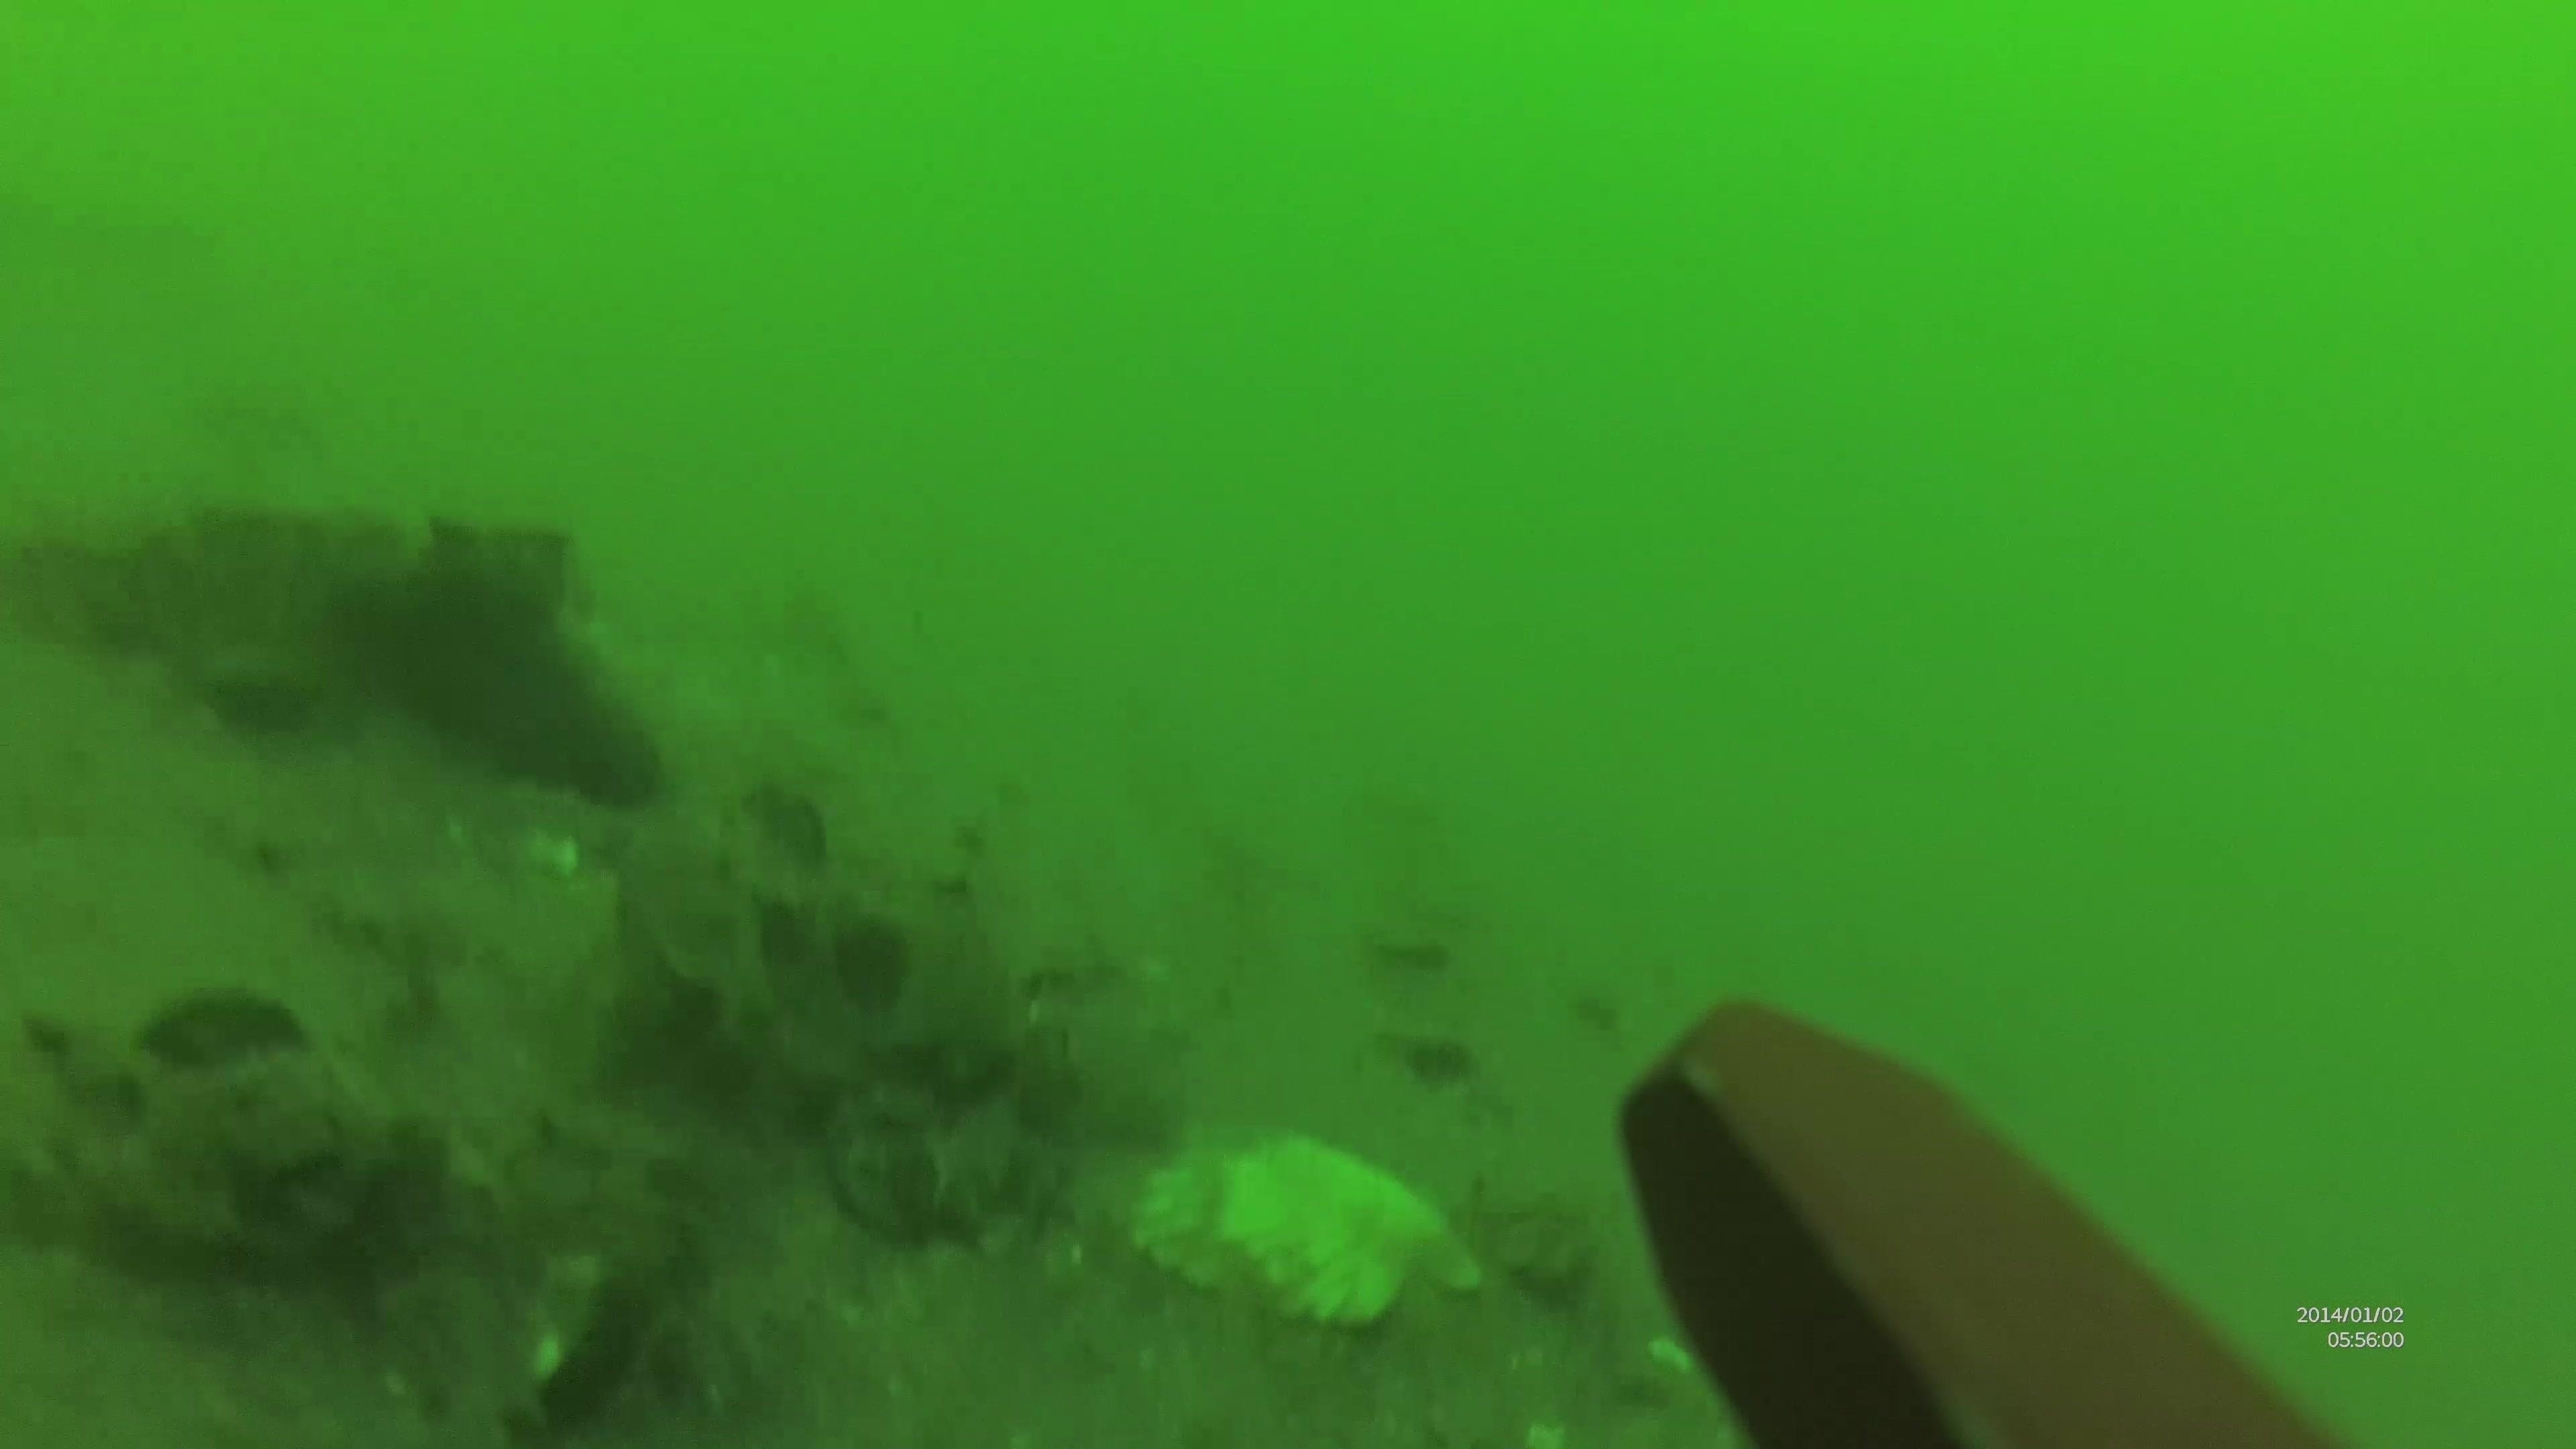scallop: (1127, 1122, 1486, 1338)
